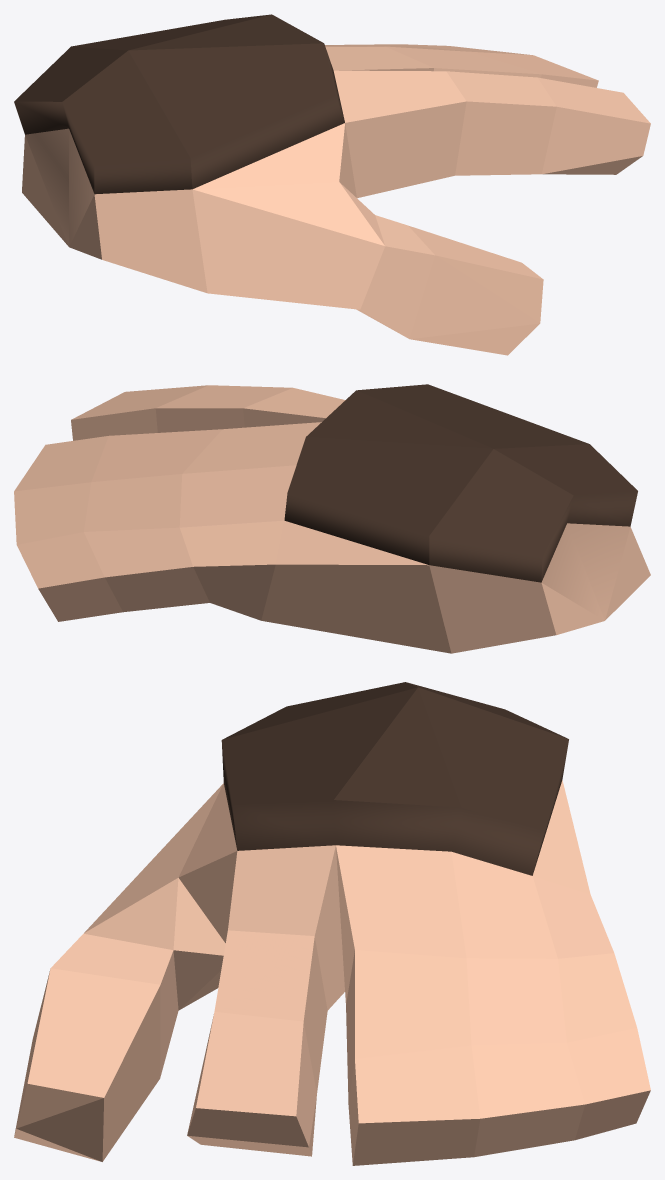
File: Chr_HandLeft_Male_16_Static.fbx
3 renders of one model, top to bottom at view 1: azimuth 30°, elevation 25°; view 2: azimuth 150°, elevation 25°; view 3: azimuth 270°, elevation 25°, orthographic. The views are drawn at different scales.
Visible parts, largest first — view 1: Chr_HandLeft_Male_16_Static; view 2: Chr_HandLeft_Male_16_Static; view 3: Chr_HandLeft_Male_16_Static.
Part boxes in pixels (box(x1,y1,x2,y2)): Chr_HandLeft_Male_16_Static: box(14, 14, 650, 355); Chr_HandLeft_Male_16_Static: box(14, 384, 650, 653); Chr_HandLeft_Male_16_Static: box(14, 682, 650, 1165).
Size of the model in its own units: 0.2335 by 0.1083 by 0.188.
